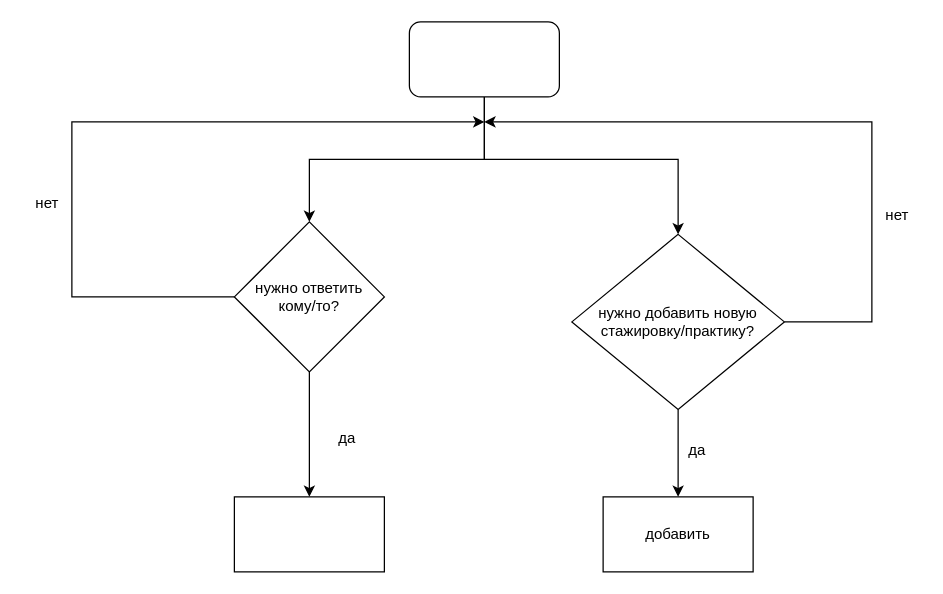
This 943x594 diagram has some shape labels left out. The centre of each missing label's shape, as x and y in pixels:
"начало" belongs at pixel 483 59.
"ответить" belongs at pixel 308 534.
